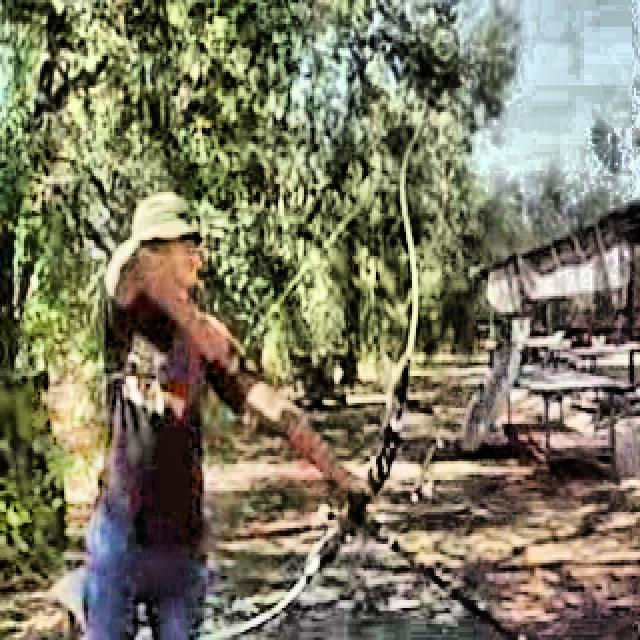I: (61, 189, 378, 640)
